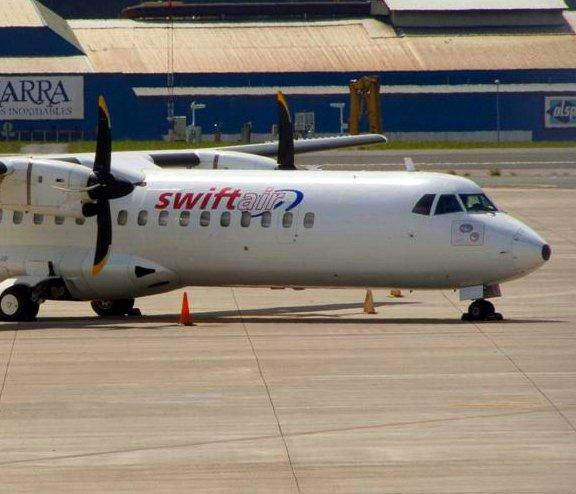airplane: (0, 88, 553, 323)
